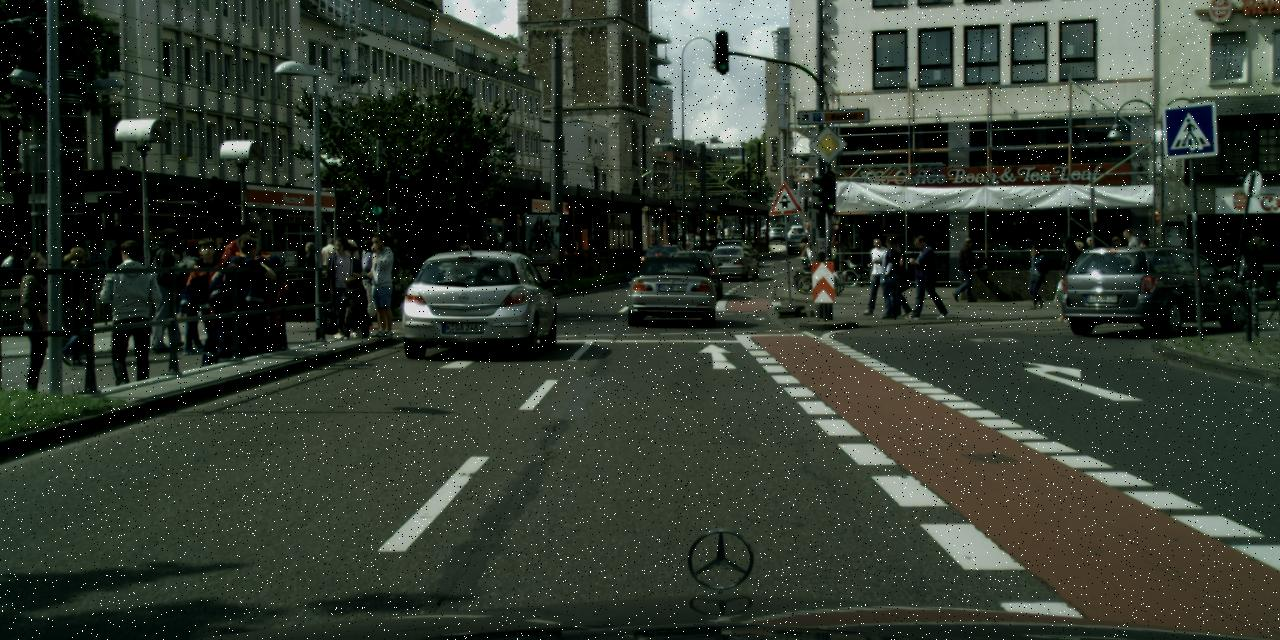ped: (102, 241, 166, 398), (178, 237, 238, 385), (4, 253, 63, 399), (146, 228, 195, 350), (50, 248, 98, 363), (172, 241, 218, 352), (359, 233, 402, 336), (321, 237, 361, 336), (215, 230, 286, 279), (337, 238, 372, 326), (351, 240, 386, 328), (906, 234, 941, 319), (1050, 236, 1084, 321), (863, 238, 894, 314), (2, 247, 32, 320), (314, 238, 344, 308), (296, 241, 324, 311), (240, 312, 281, 358), (1242, 236, 1268, 301), (952, 238, 978, 300), (1024, 243, 1049, 306), (796, 235, 815, 282), (210, 318, 232, 358), (826, 240, 844, 284), (1110, 230, 1149, 248), (1077, 237, 1098, 252), (288, 324, 291, 346)
